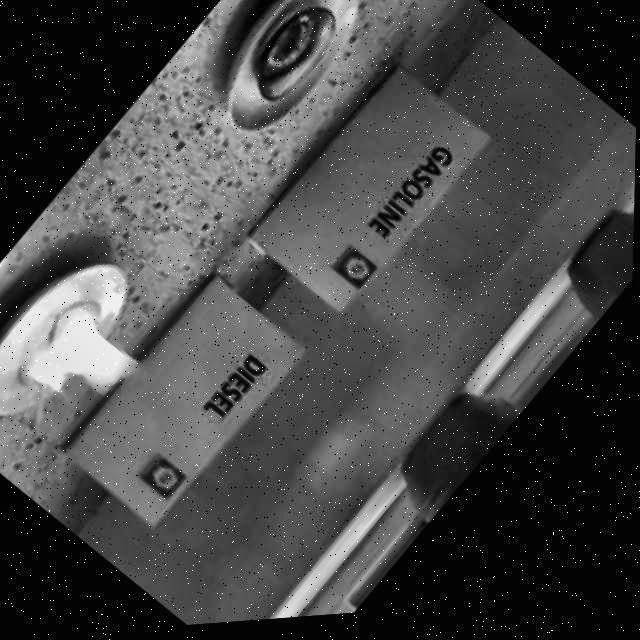Fire: (12, 293, 154, 437)
